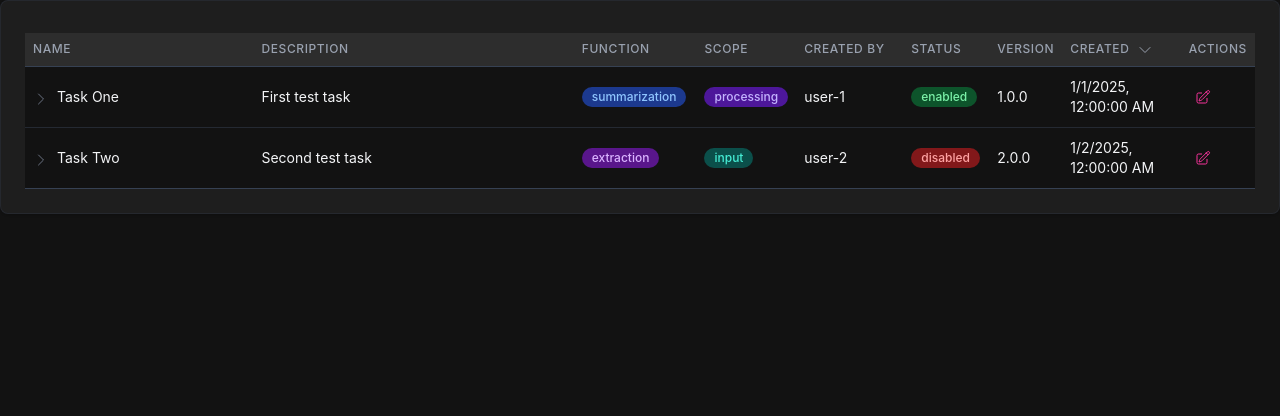
it: TasksTable Component › Row expansion › expands row when clicked
// Find and click the first task row
Click the row with test id "task-row-00000001-0000-0000-0000-000000000001": (640, 97) x1=25 y1=66 x2=1255 y2=127
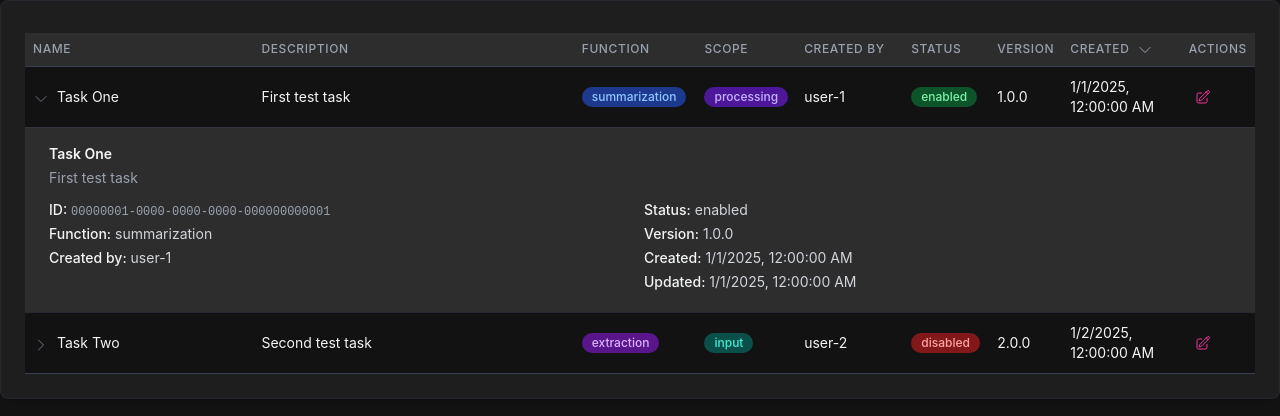
Expected: the element named "Collapse row" is shown, x1=33 y1=91 x2=49 y2=107
